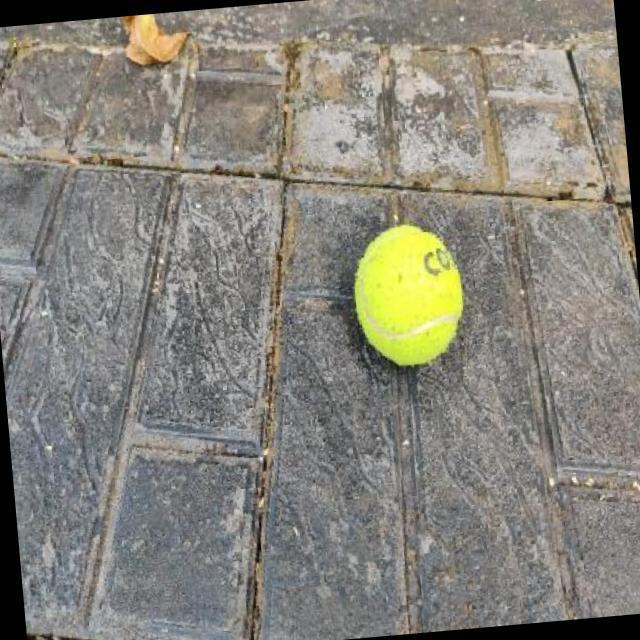-: (338, 210, 484, 395)
